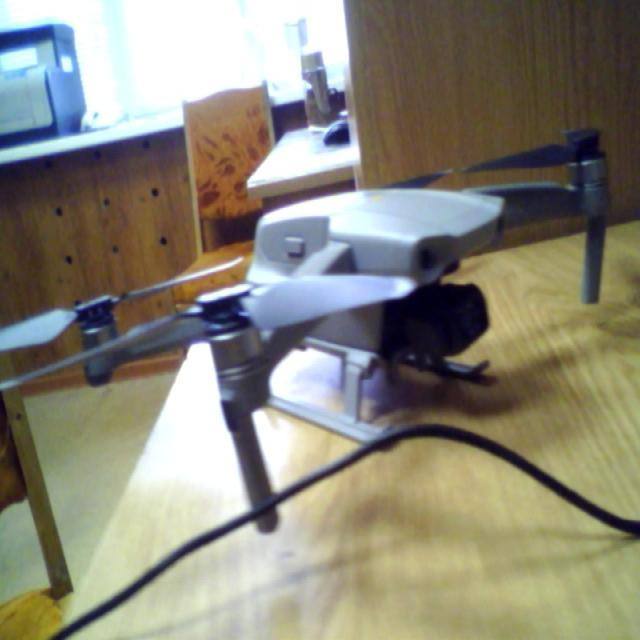drone: (9, 124, 640, 524)
